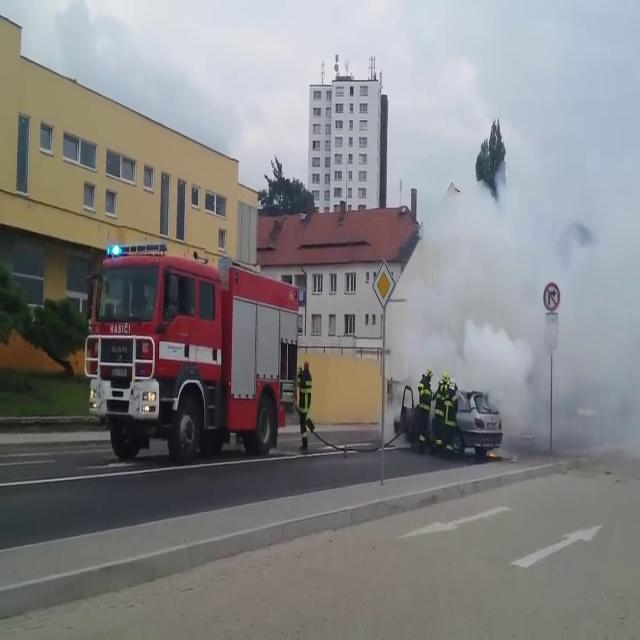Smoke: (394, 23, 640, 446)
